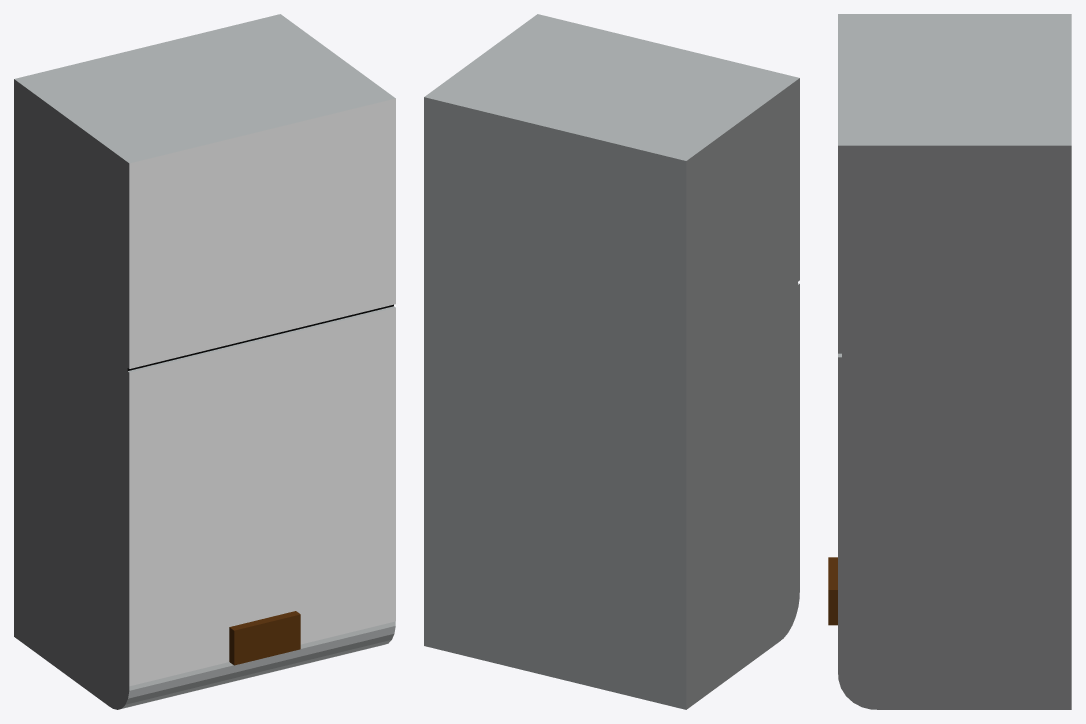
The model's file is beijing_diaoban_a.obj.
The picture shows the model from 3 angles, left to right: view 1: azimuth 30°, elevation 25°; view 2: azimuth 150°, elevation 25°; view 3: azimuth 270°, elevation 25°; orthographic projection. The views are drawn at different scales.
Parts seen in each view (by area): view 1: center, r, l, dl_off; view 2: center, l, r; view 3: center, r, l, dl_off.
Boxes of the visible parts, bbox=[...] form: center: bbox=[14, 14, 395, 709]; r: bbox=[14, 17, 394, 708]; l: bbox=[14, 14, 395, 705]; dl_off: bbox=[229, 611, 300, 665]; center: bbox=[424, 14, 799, 709]; l: bbox=[424, 14, 798, 709]; r: bbox=[424, 14, 799, 709]; center: bbox=[838, 14, 1071, 709]; r: bbox=[838, 14, 1071, 706]; l: bbox=[838, 14, 1071, 391]; dl_off: bbox=[828, 557, 837, 625].
Bounding box in the file's own units: 0.5 × 1 × 0.3906.
7 materials, 7 textured.
